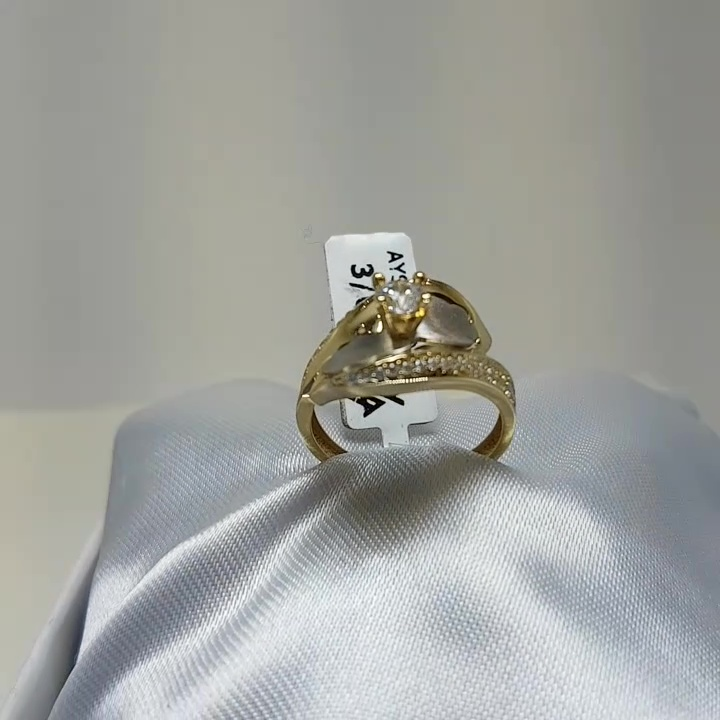Ring 6: (276, 261, 533, 490)
